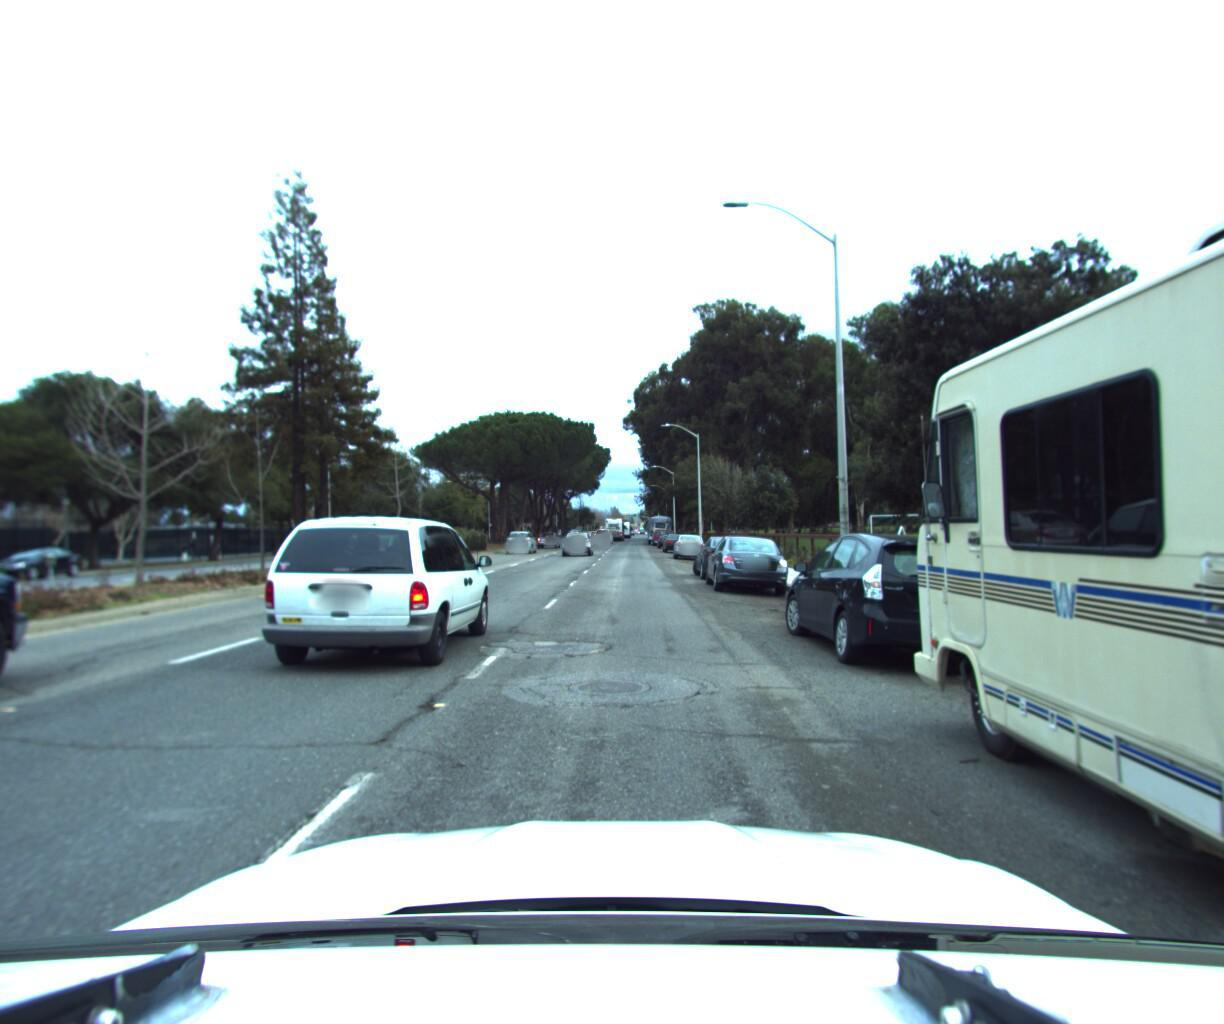car: (240, 498, 510, 680), (774, 514, 1035, 676), (0, 446, 64, 859), (702, 524, 800, 589), (693, 528, 764, 579), (0, 546, 93, 585), (673, 528, 709, 557), (558, 525, 595, 552), (502, 524, 539, 551), (536, 525, 563, 546)
